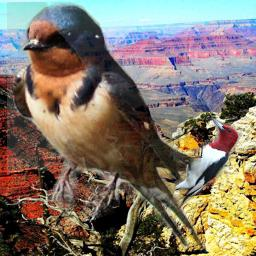Swallow: (7, 2, 208, 256)
Woodpecker: (167, 115, 244, 212)
